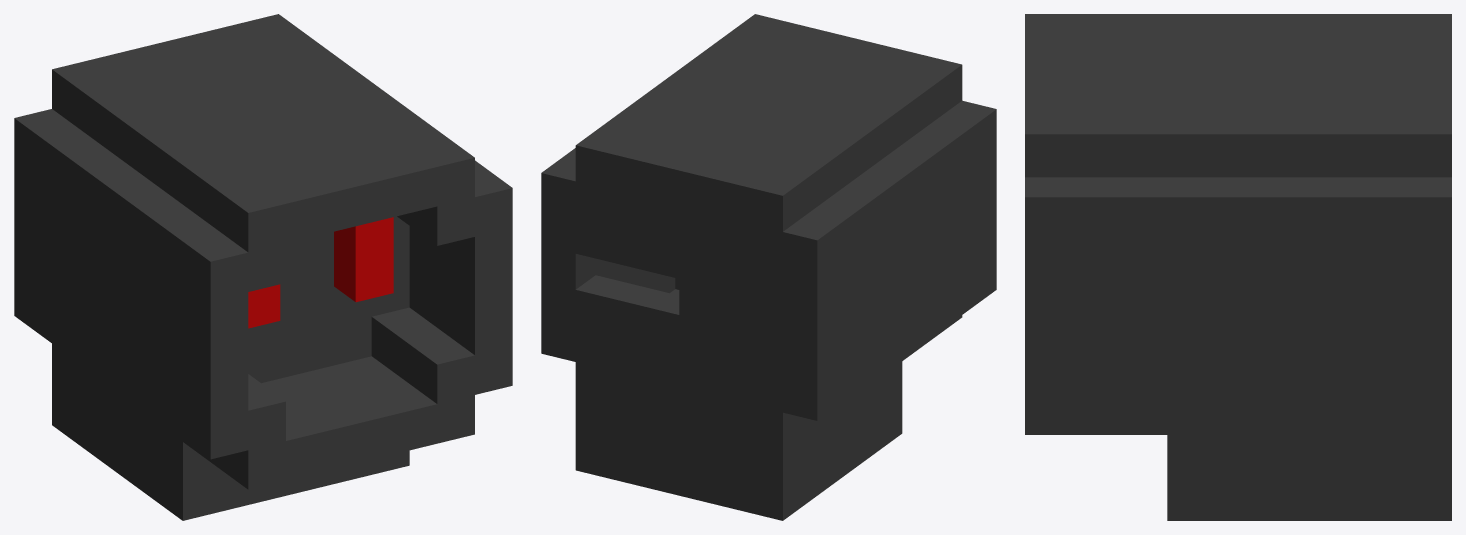
The picture shows the model from 3 angles, left to right: view 1: azimuth 30°, elevation 25°; view 2: azimuth 150°, elevation 25°; view 3: azimuth 270°, elevation 25°; orthographic projection. The views are drawn at different scales.
Bounding box in the file's own units: 0.4 × 0.45 × 0.45.
